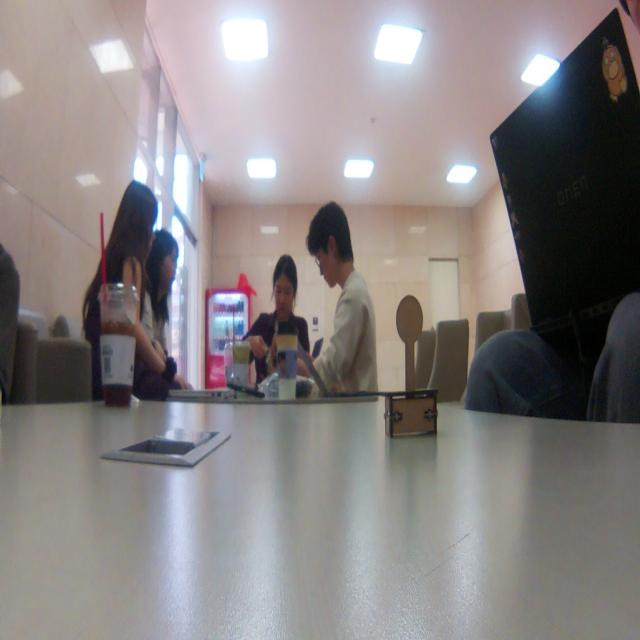target: (385, 292, 439, 438)
